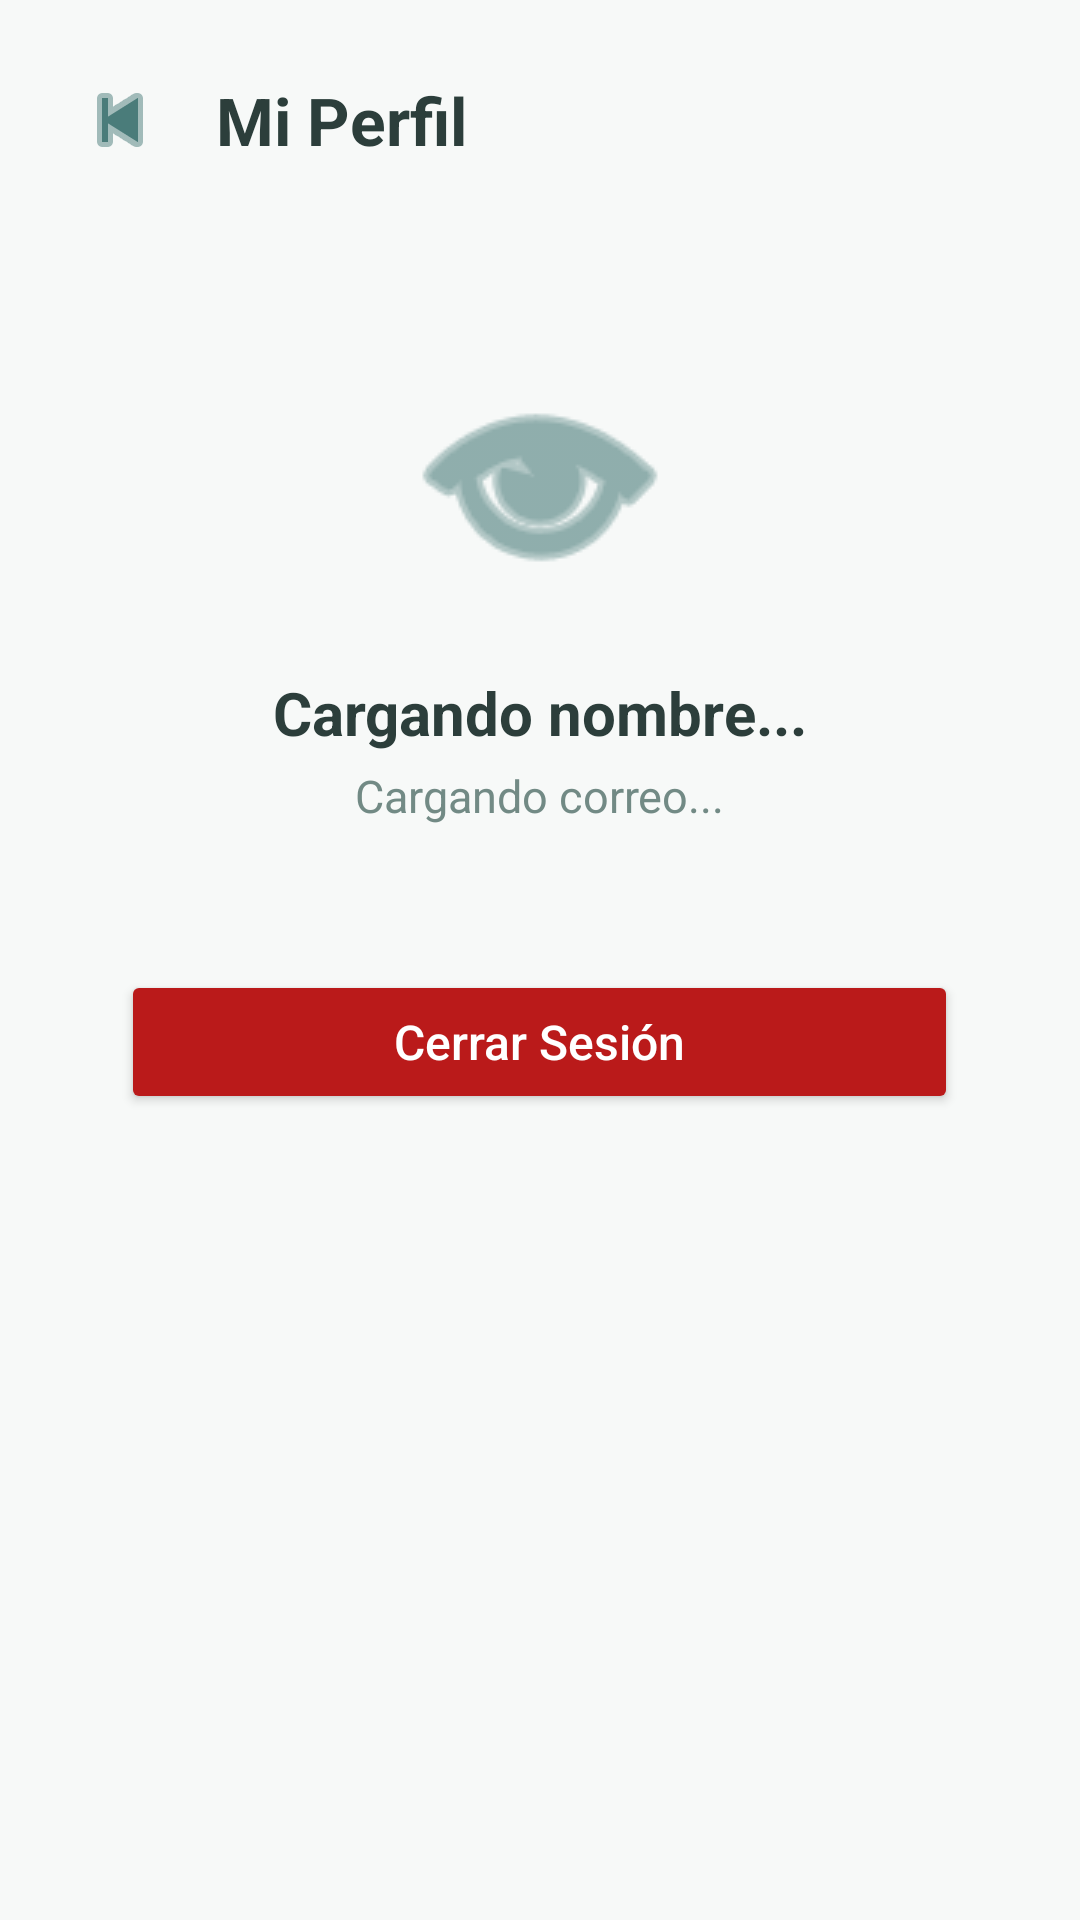

Icon click points for this 1080 × 1920 phone screenshot, format (x=x, y=y):
view: (x=540, y=487)
Volver: (x=120, y=120)
